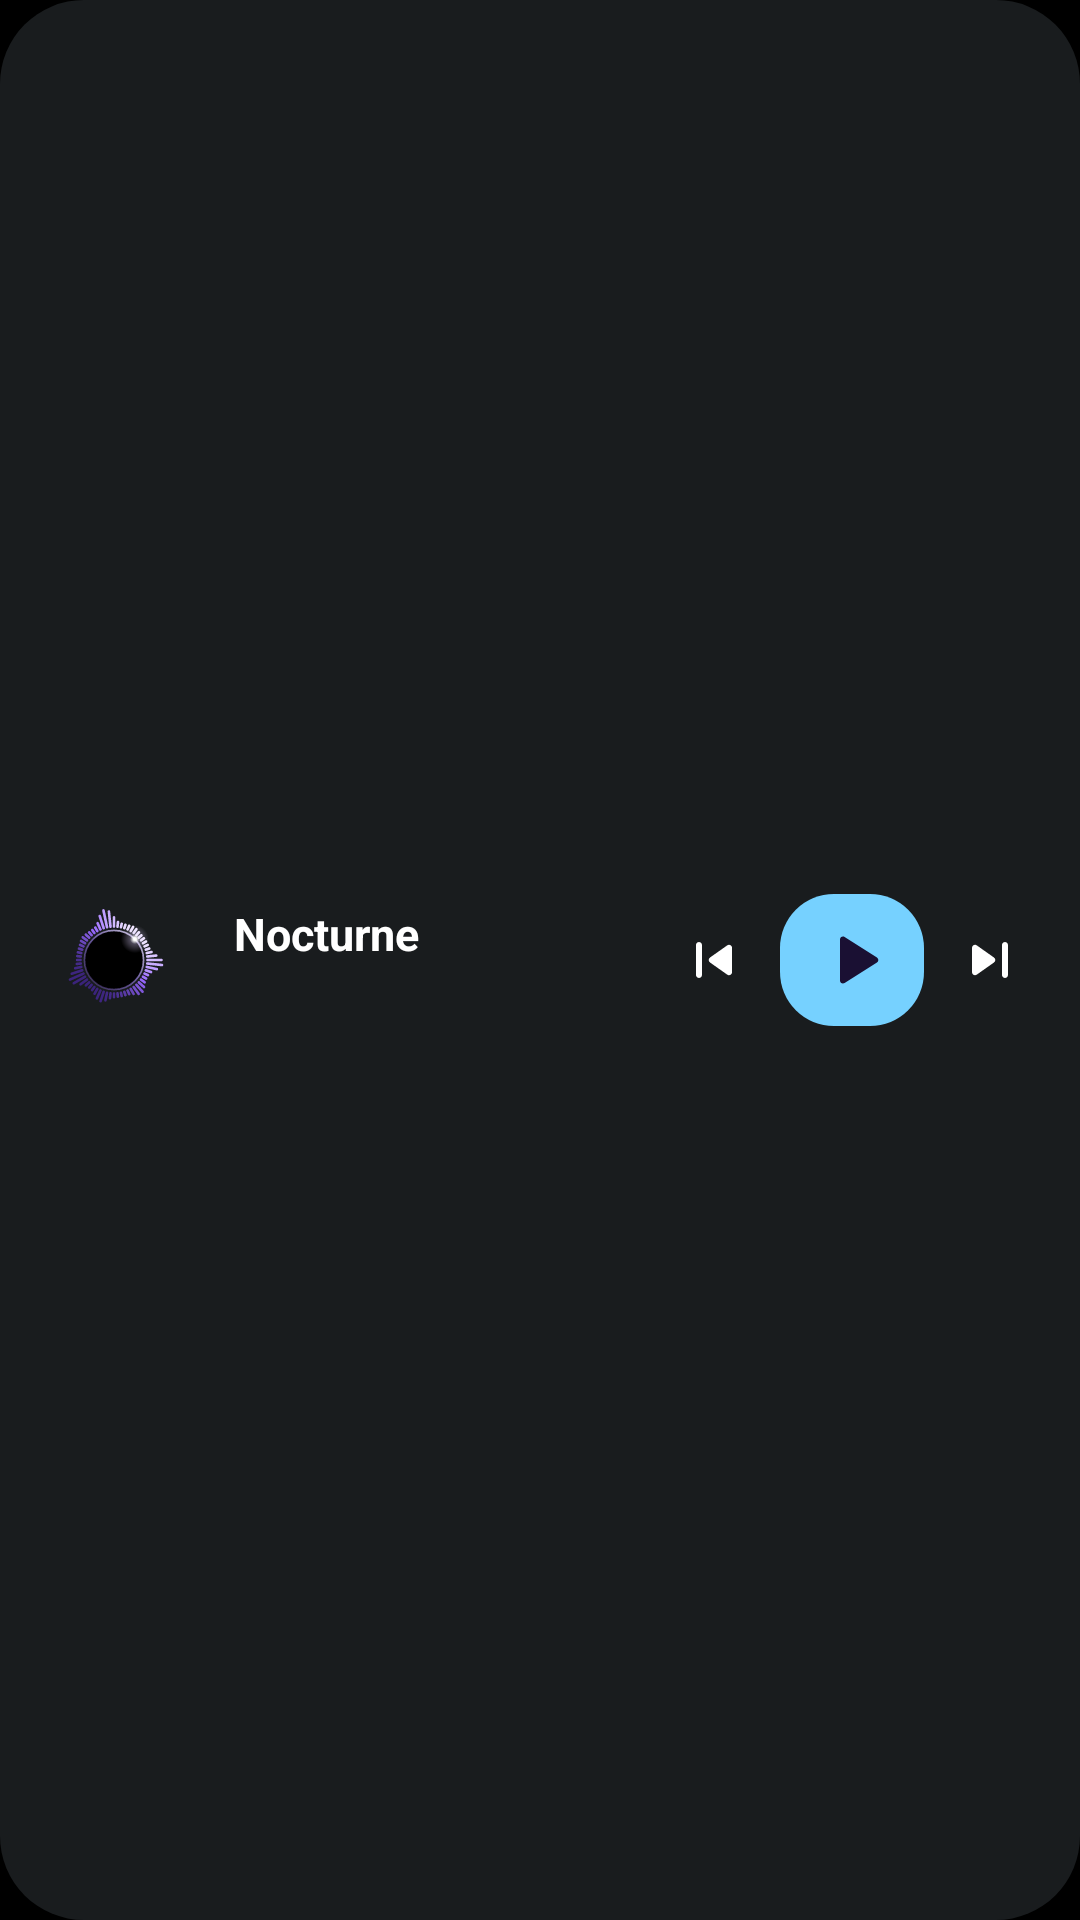

Named icons in this screenshot (1080 × 1920) and their bounding boxes, (x1, y1, x2, y2):
Next: (972, 942, 1008, 978)
Play: (780, 894, 924, 1026)
Previous: (696, 942, 732, 978)
